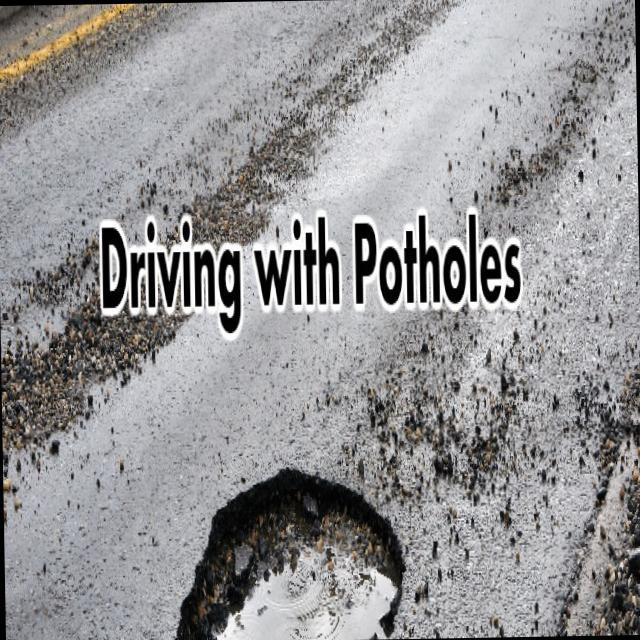Pothole: (141, 431, 422, 640)
